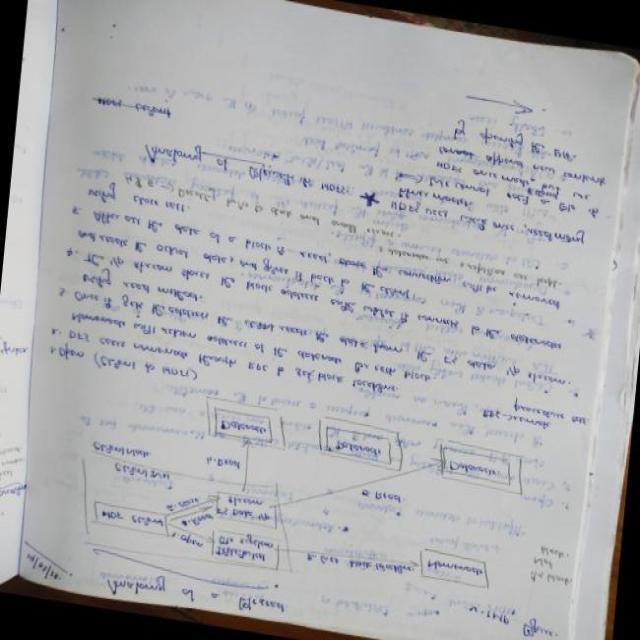Figure Detection - v3 Dataset Version2: (61, 367, 545, 626)
